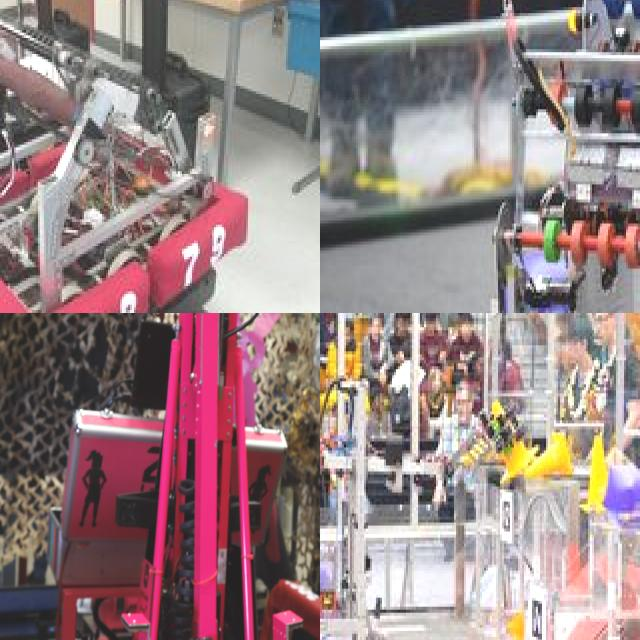FRC-Robots: (0, 313, 320, 640), (431, 0, 640, 313), (0, 101, 291, 313), (320, 356, 461, 640)
